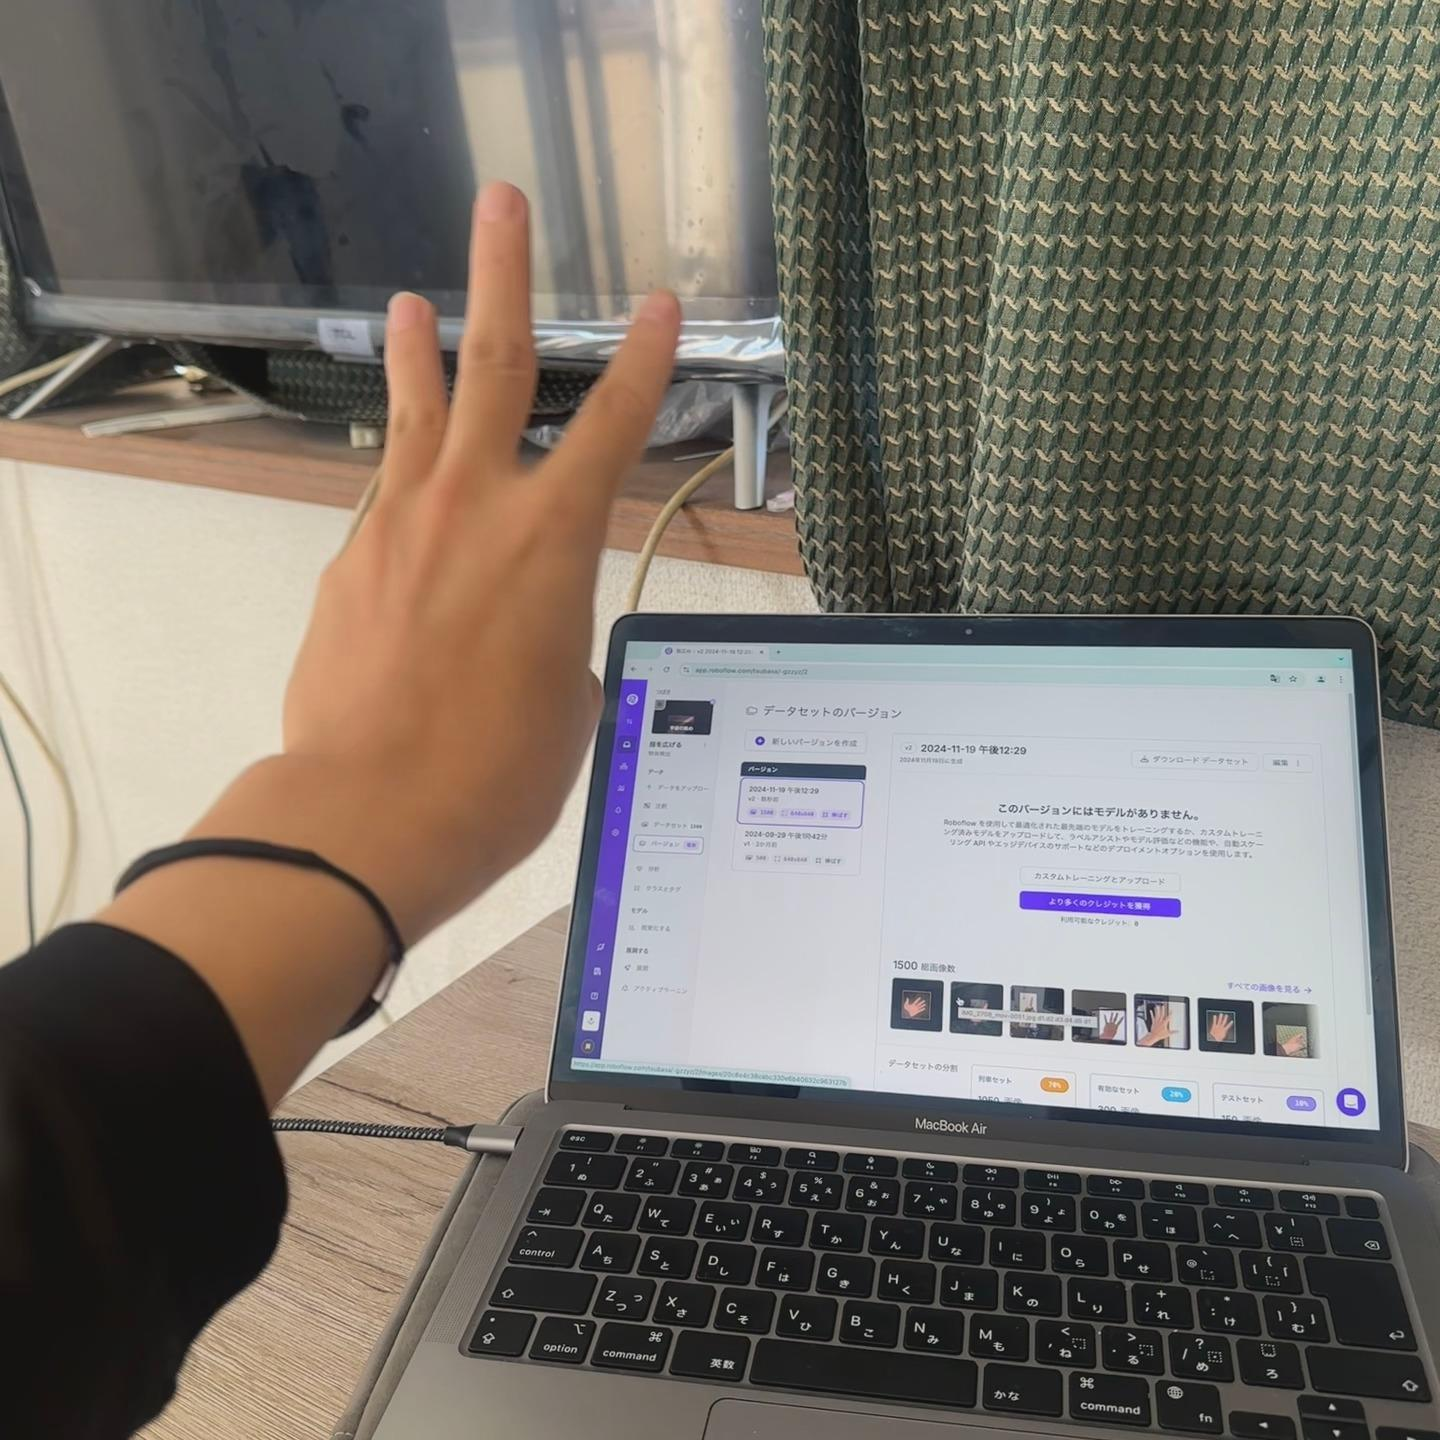without_gloves: (170, 103, 806, 916)
